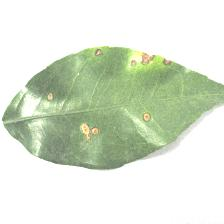canker: (33, 39, 182, 143)
